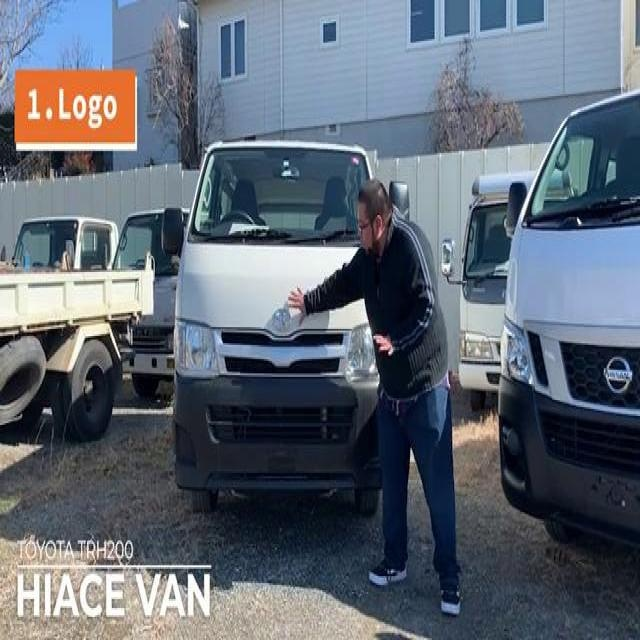Van: (180, 135, 396, 523)
